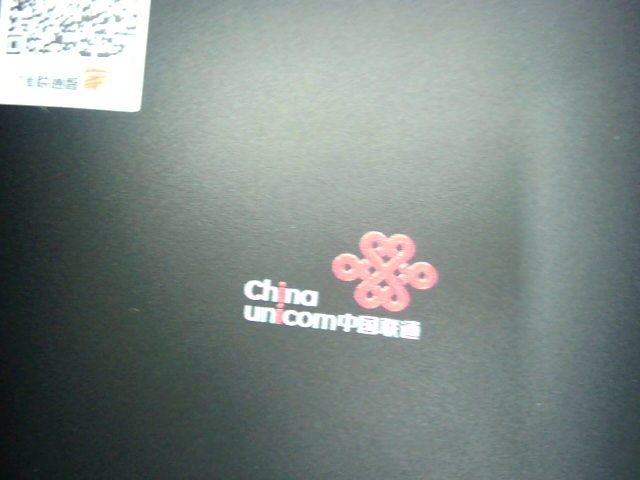AC_ChinaUnicom: (233, 219, 441, 342)
